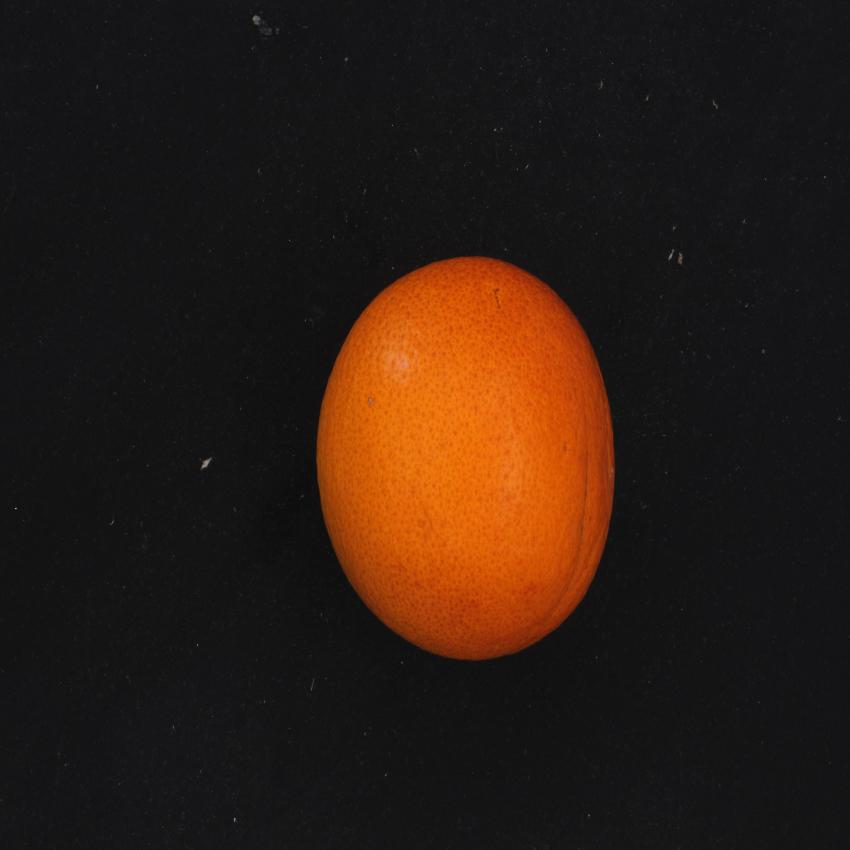Buen estado: (302, 239, 638, 680)
